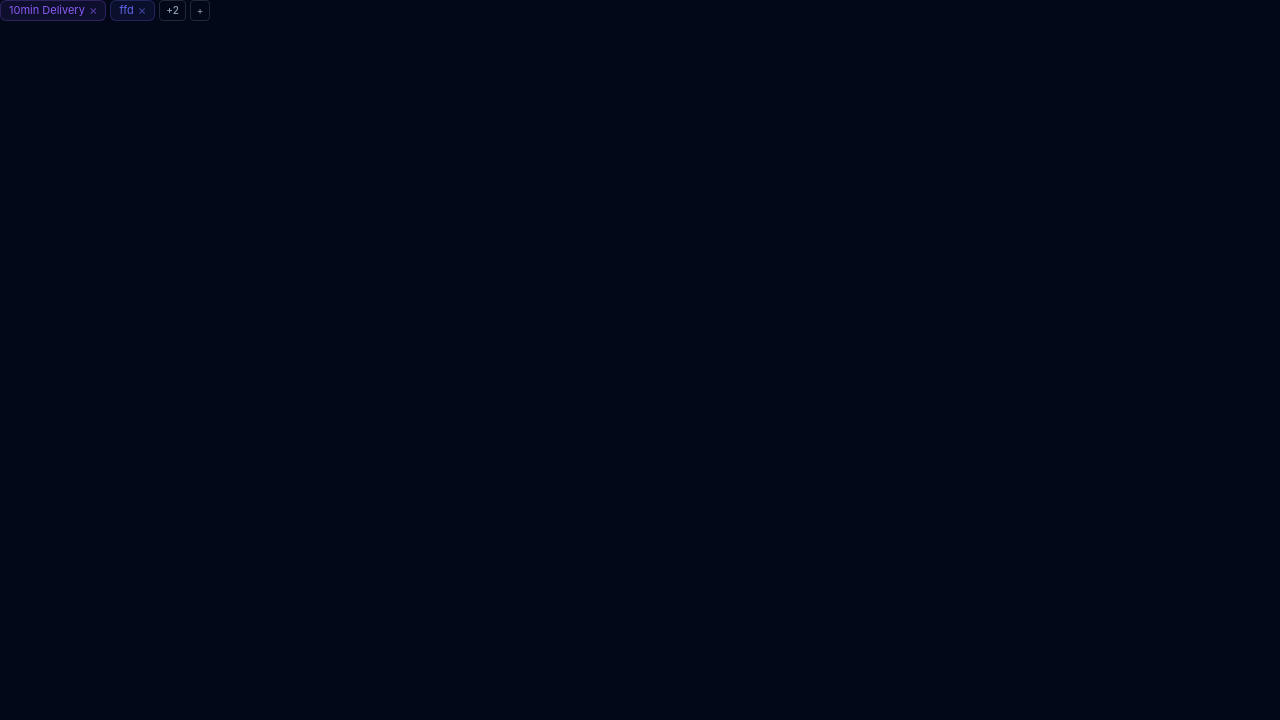
Test: LabelCombobox › caps visible labels and exposes the full list through an overflow popover
The image size is (1280, 720).
Expected: the text "10min Delivery" is shown, x1=9 y1=3 x2=85 y2=17
Expected: the text "ffd" is shown, x1=120 y1=3 x2=134 y2=17
Click the button named "Show 2 more labels" at (172, 11), box x1=159 y1=0 x2=186 y2=21
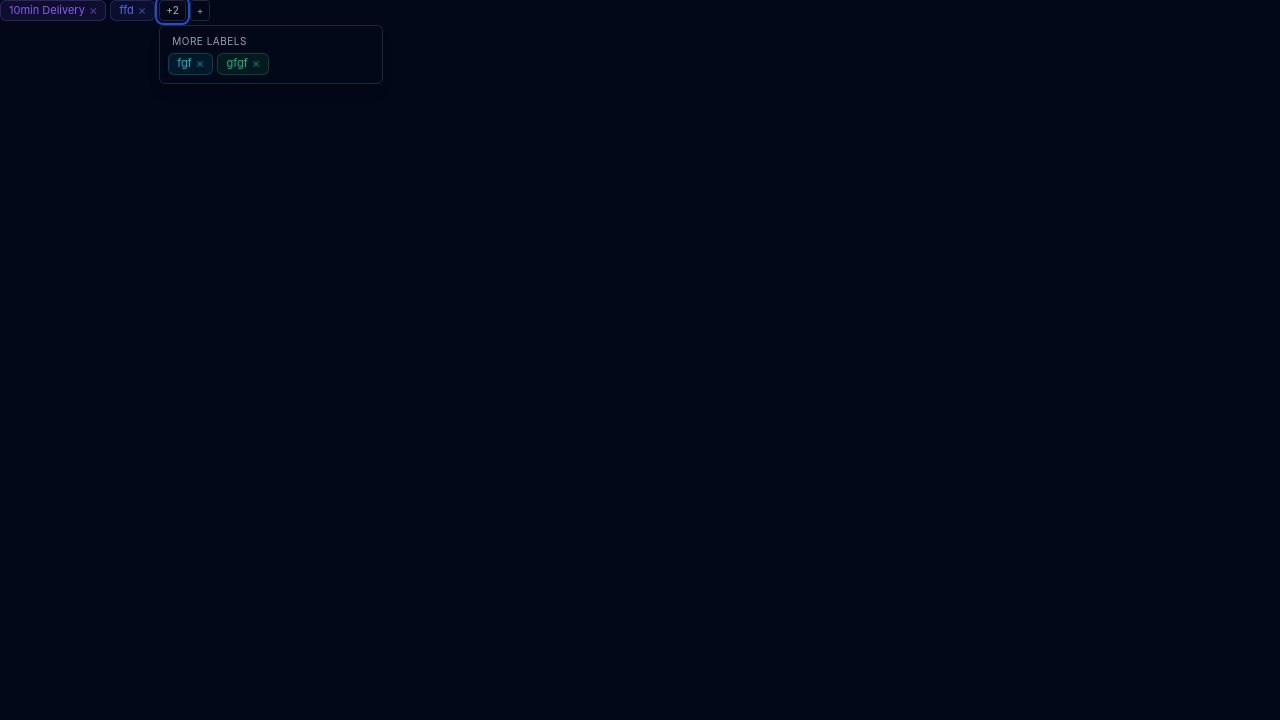
Expected: the text "More labels" is shown, x1=172 y1=35 x2=247 y2=47
Expected: the text "fgf" is shown, x1=177 y1=56 x2=192 y2=70
Expected: the text "gfgf" is shown, x1=226 y1=56 x2=248 y2=70
